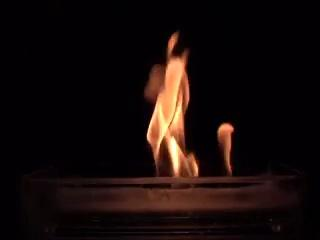Fire: (146, 27, 236, 179)
